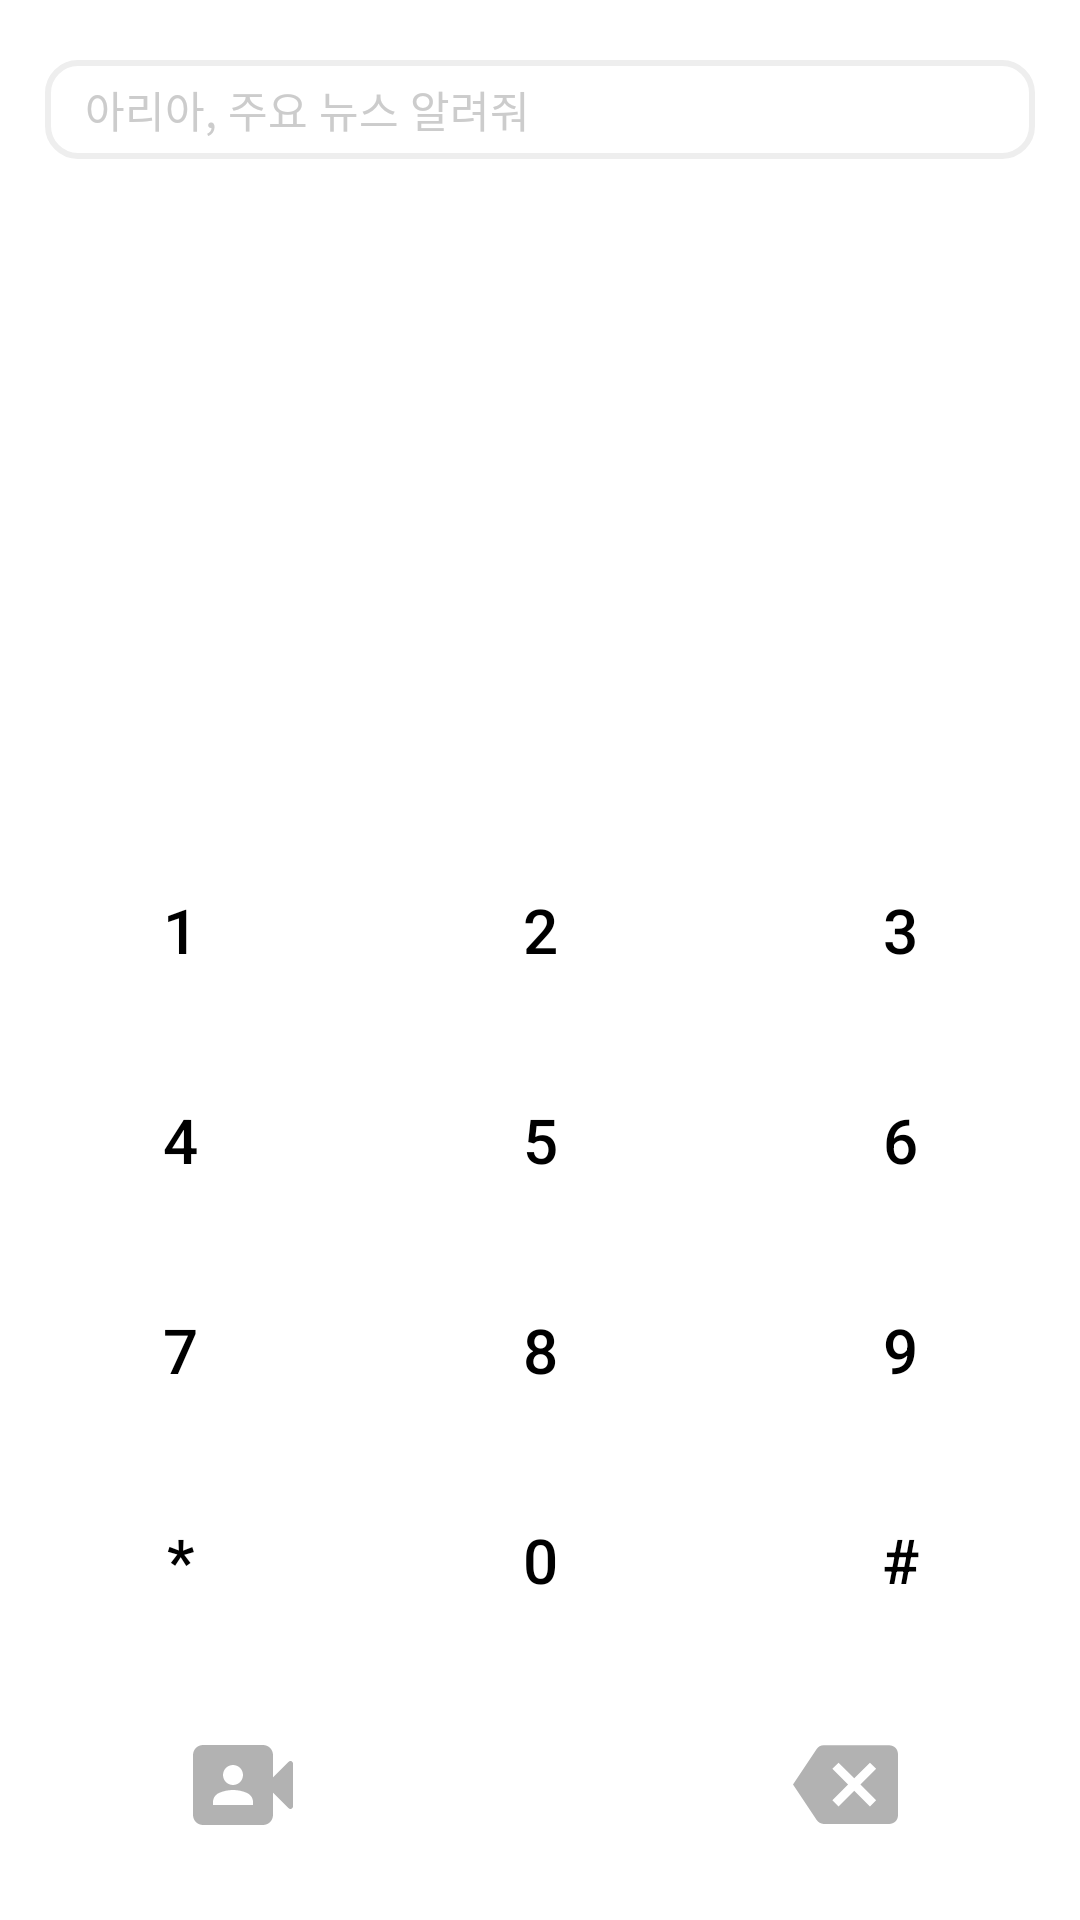

Icon bounding boxes for this 1080x1920 phone screenshot, format (x1, y1, x2, y2):
backspace: (793, 1745, 898, 1824)
camera: (193, 1745, 293, 1825)
